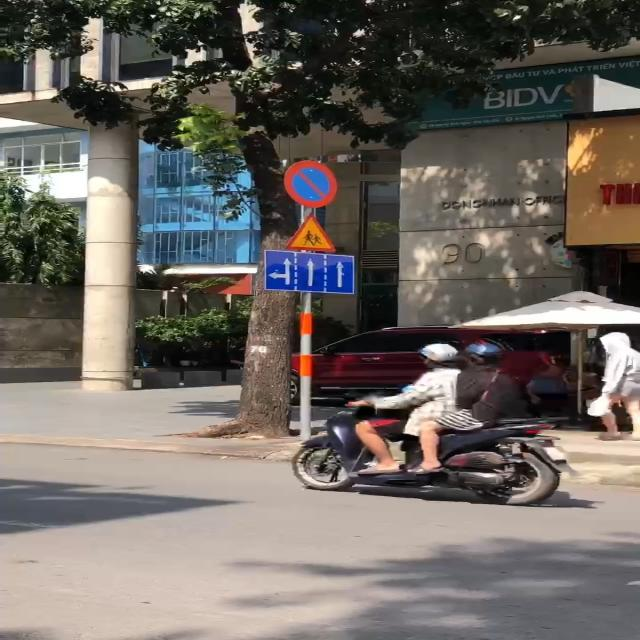Bien bao cam do xe: (276, 155, 356, 211)
Bien bao tre em: (282, 212, 346, 255)
